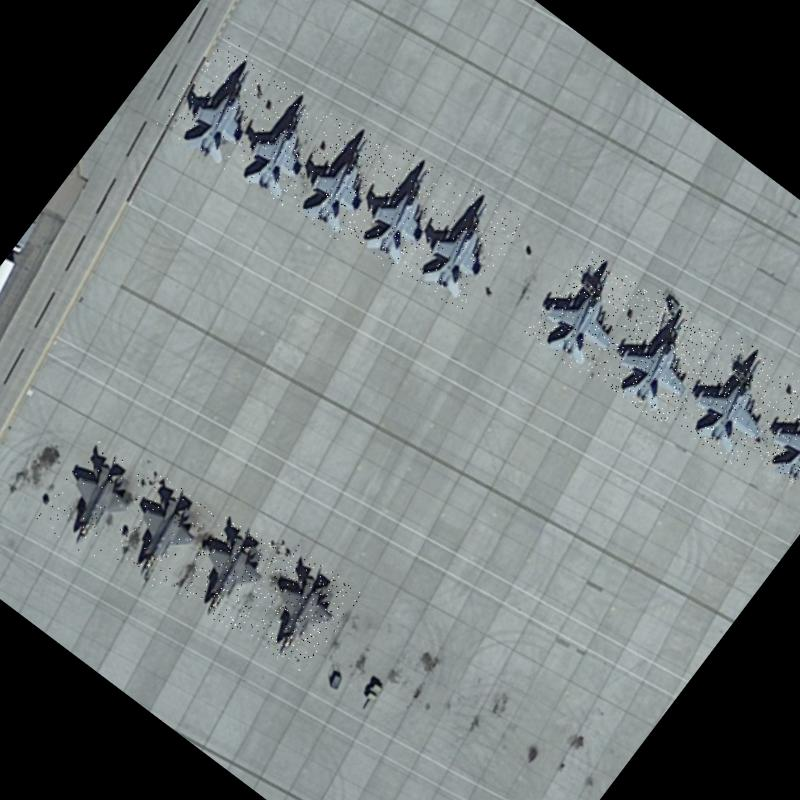A15: (234, 544, 364, 676), (35, 438, 154, 564), (170, 511, 288, 634), (100, 470, 216, 591)
A16: (593, 288, 729, 428), (156, 34, 290, 174), (669, 331, 800, 472), (524, 248, 652, 382), (401, 180, 528, 315), (339, 147, 464, 279), (228, 84, 350, 211), (286, 118, 406, 245), (746, 367, 800, 502)
